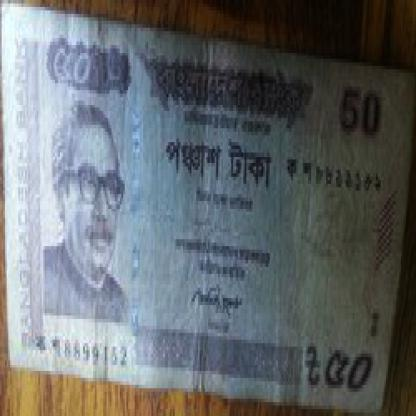Fifty taka: (305, 336, 396, 413), (48, 31, 107, 108)
